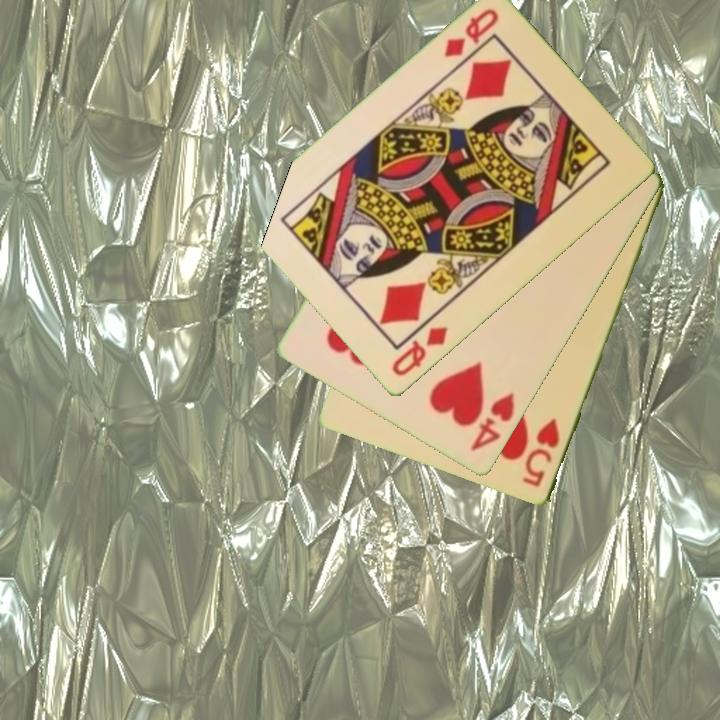4h: (467, 389, 518, 455)
5h: (519, 414, 563, 491)
Qd: (388, 323, 451, 380), (440, 5, 502, 61)
